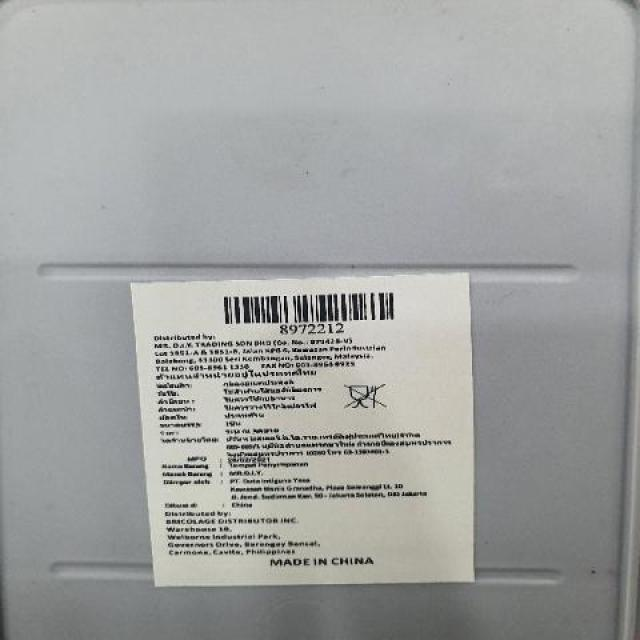Barcode: (211, 286, 404, 335)
